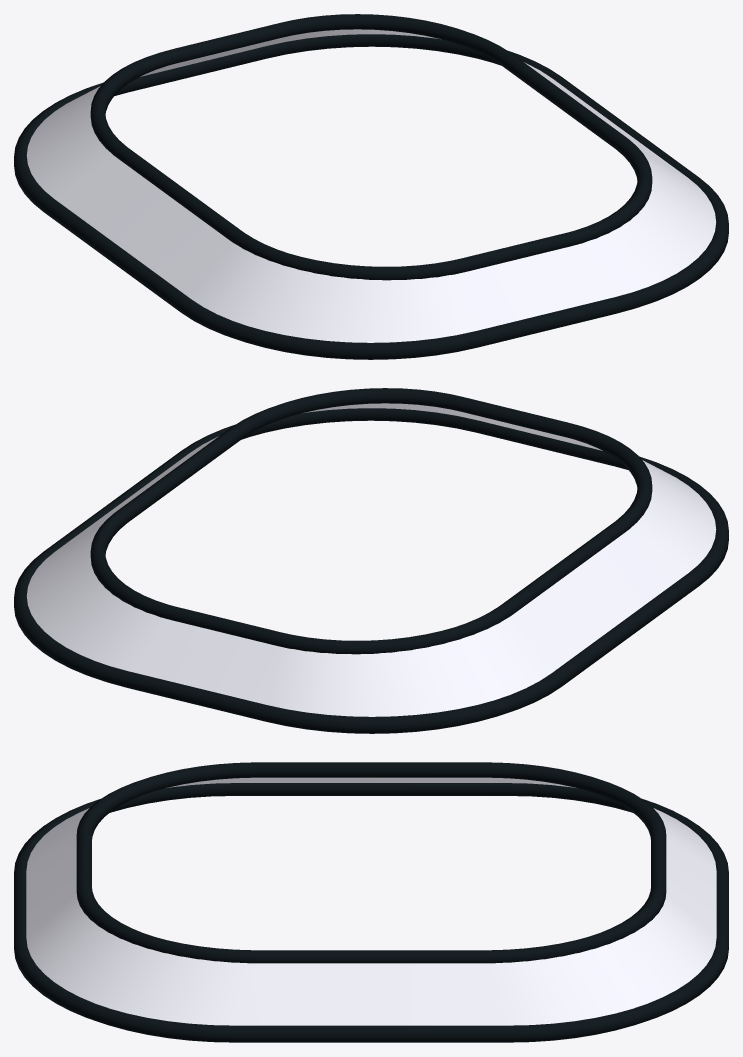
File: SM_Ceiling01_MC.fbx
3 views of the same model, one above another, from view 1: azimuth 30°, elevation 25°; view 2: azimuth 150°, elevation 25°; view 3: azimuth 270°, elevation 25° (orthographic).
Parts seen in each view (by area): view 1: SM_Ceiling01_MC; view 2: SM_Ceiling01_MC; view 3: SM_Ceiling01_MC.
Boxes of the visible parts, x1,y1,x2,y2 form: SM_Ceiling01_MC: (14, 14, 728, 359); SM_Ceiling01_MC: (14, 388, 728, 733); SM_Ceiling01_MC: (14, 762, 728, 1042).
Bounding box in the file's own units: 14175 × 1642 × 16898.
